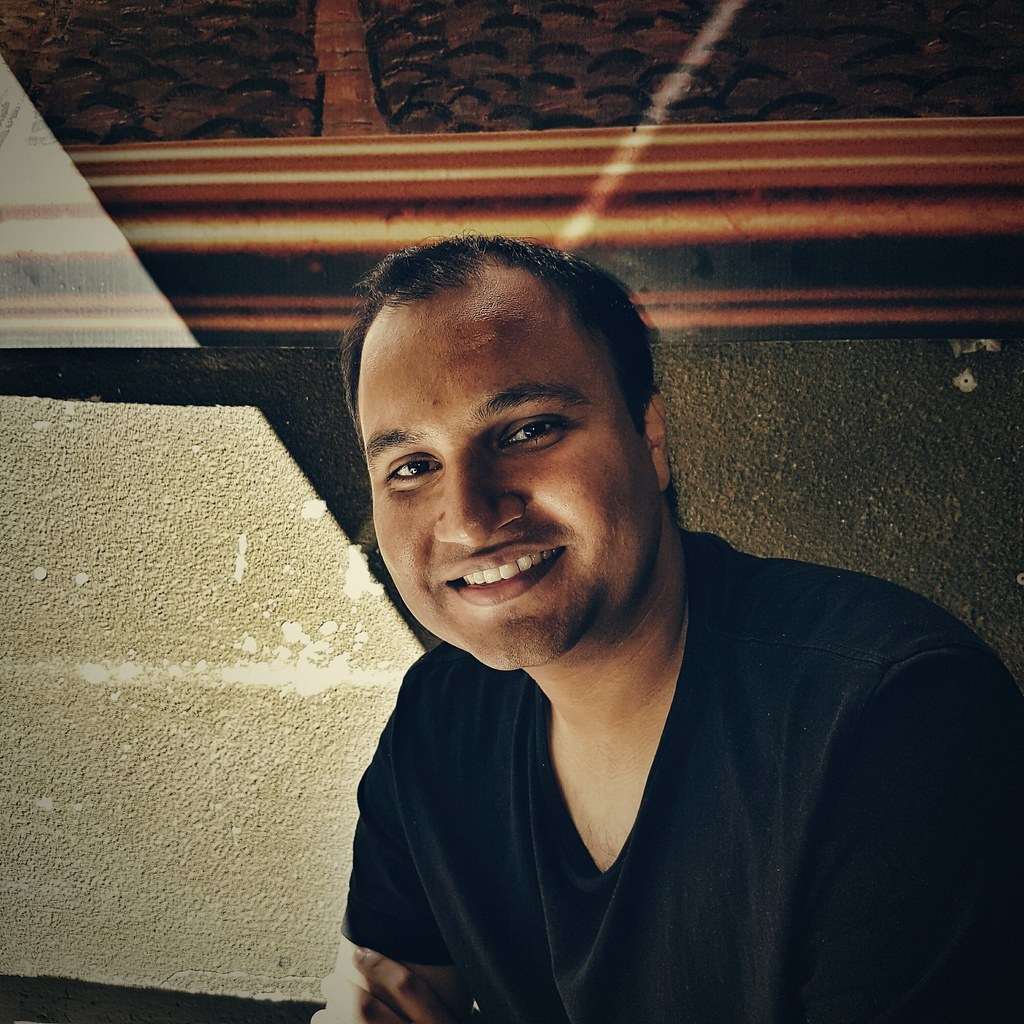without_mask: (338, 286, 687, 662)
